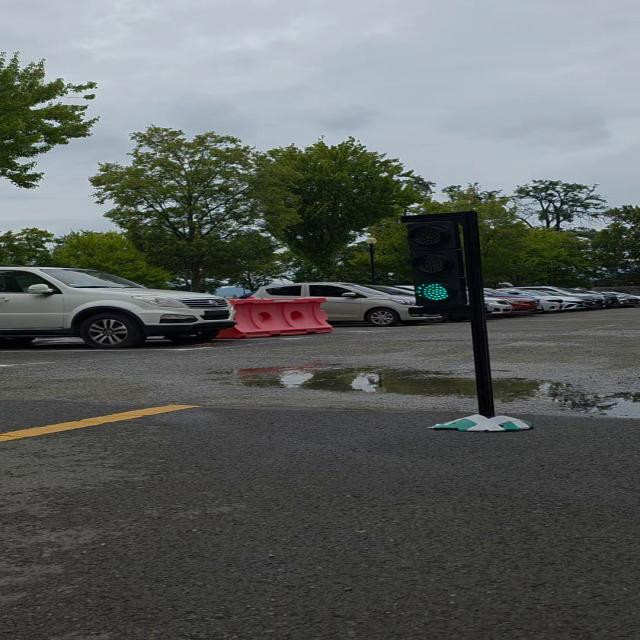green: (406, 216, 481, 312)
